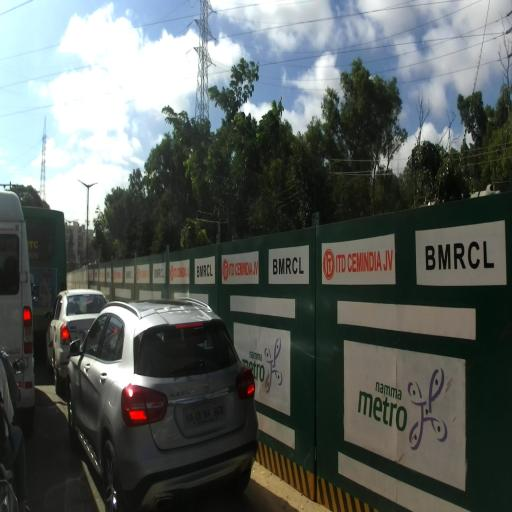street_light_0: (77, 179, 89, 188), (87, 183, 98, 189), (69, 218, 79, 224)
